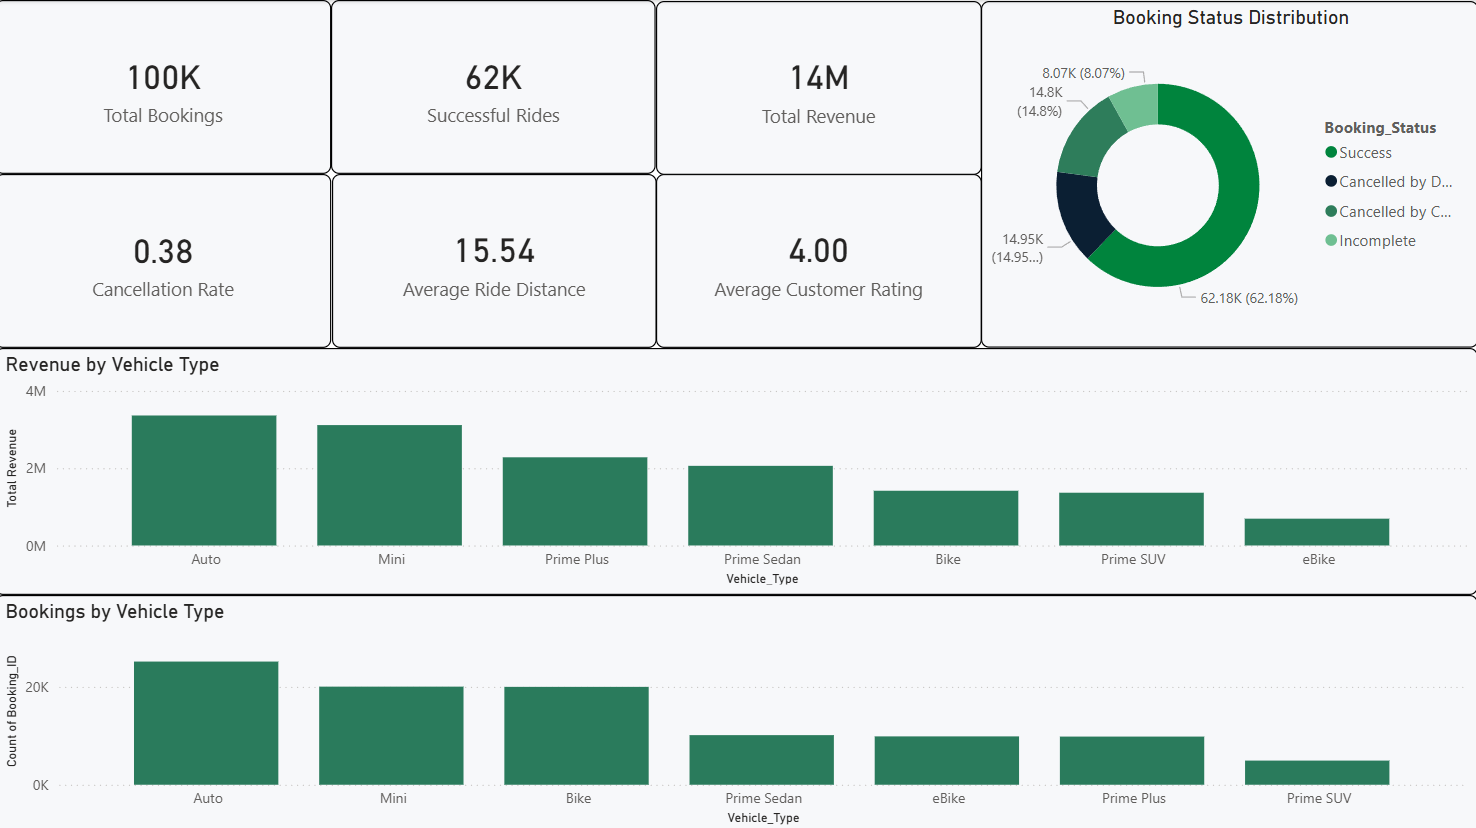

Layout of this report page (visuals, bound fields, positions):
{"tool":"powerbi","page":{"name":"Overview","canvas":[1280,720],"ordinal":0},"visuals":[{"type":"card","fields":{"Values":["bookings.Total Bookings"]},"box":[0,0,290,150],"z":0},{"type":"card","fields":{"Values":["bookings.Cancellation Rate"]},"box":[0,150,290,150],"z":1000},{"type":"card","fields":{"Values":["bookings.Successful Rides"]},"box":[290,0,280,150],"z":2000},{"type":"card","fields":{"Values":["bookings.Average Ride Distance"]},"box":[290.3,150.5,279.6,149.5],"z":3000},{"type":"card","fields":{"Values":["bookings.Average Customer Rating"]},"box":[569.9,150.5,280.6,149.5],"z":4000},{"type":"card","fields":{"Values":["bookings.Total Revenue"]},"box":[569.9,1,280.6,149.5],"z":5000},{"type":"donutChart","title":"Booking Status Distribution","fields":{"Category":["bookings.Booking_Status"],"Y":["CountNonNull(bookings.Booking_ID)"]},"box":[850.5,1,429.1,299],"z":6000},{"type":"clusteredColumnChart","title":"Revenue by Vehicle Type","fields":{"Category":["bookings.Vehicle_Type"],"Y":["bookings.Total Revenue"]},"box":[0,300,1278.9,213.3],"z":7000},{"type":"clusteredColumnChart","title":"Bookings by Vehicle Type","fields":{"Category":["bookings.Vehicle_Type"],"Y":["CountNonNull(bookings.Booking_ID)"]},"box":[0,513.3,1278.9,206.7],"z":8000}]}

Visuals, with their boxes in screenshot pixels (x1, y1, x2, y2), scaled from the page's 1280x720 canvas onto the 1476x828 screenshot:
card - bookings.Total Bookings: 0, 0, 334, 172
card - bookings.Cancellation Rate: 0, 172, 334, 345
card - bookings.Successful Rides: 334, 0, 657, 172
card - bookings.Average Ride Distance: 335, 173, 657, 345
card - bookings.Average Customer Rating: 657, 173, 981, 345
card - bookings.Total Revenue: 657, 1, 981, 173
"Booking Status Distribution" donutChart: 981, 1, 1475, 345
"Revenue by Vehicle Type" clusteredColumnChart: 0, 345, 1475, 590
"Bookings by Vehicle Type" clusteredColumnChart: 0, 590, 1475, 827
